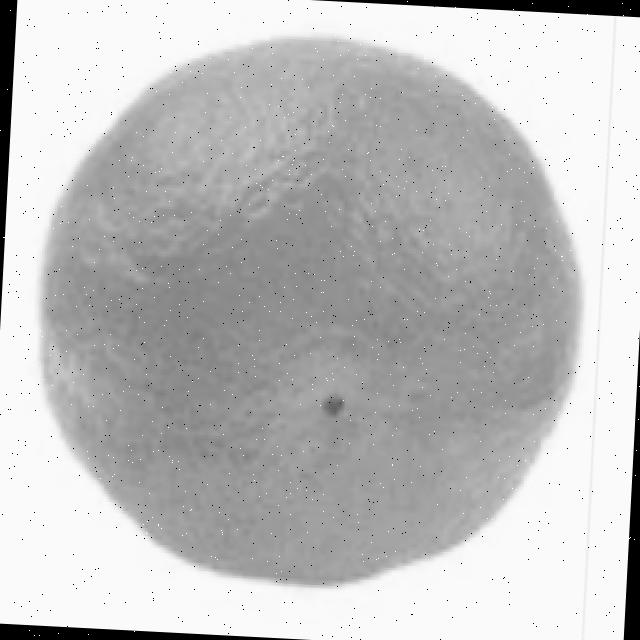orange: (29, 23, 598, 602)
